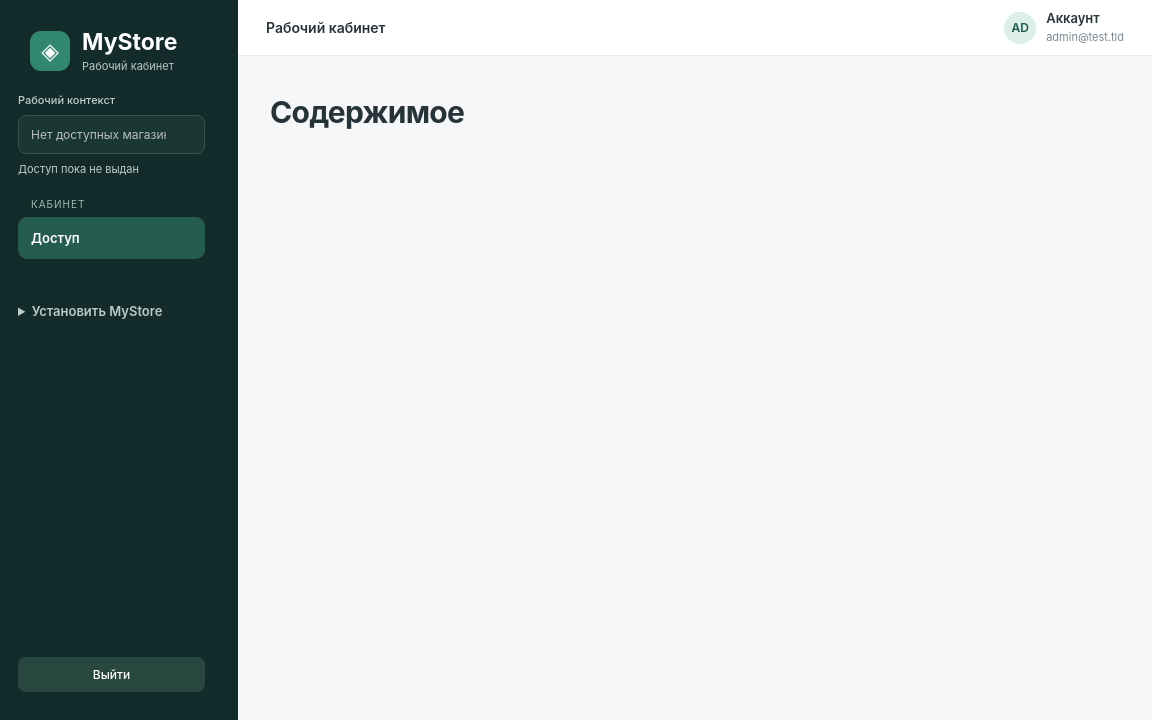
Test case: handles empty membership, long names as text, and logout errors
Expected: the dropdown labelled "Рабочий контекст" is shown, [18,115,205,154]
Click the button "Выйти": [112, 674] box [18,657,205,692]
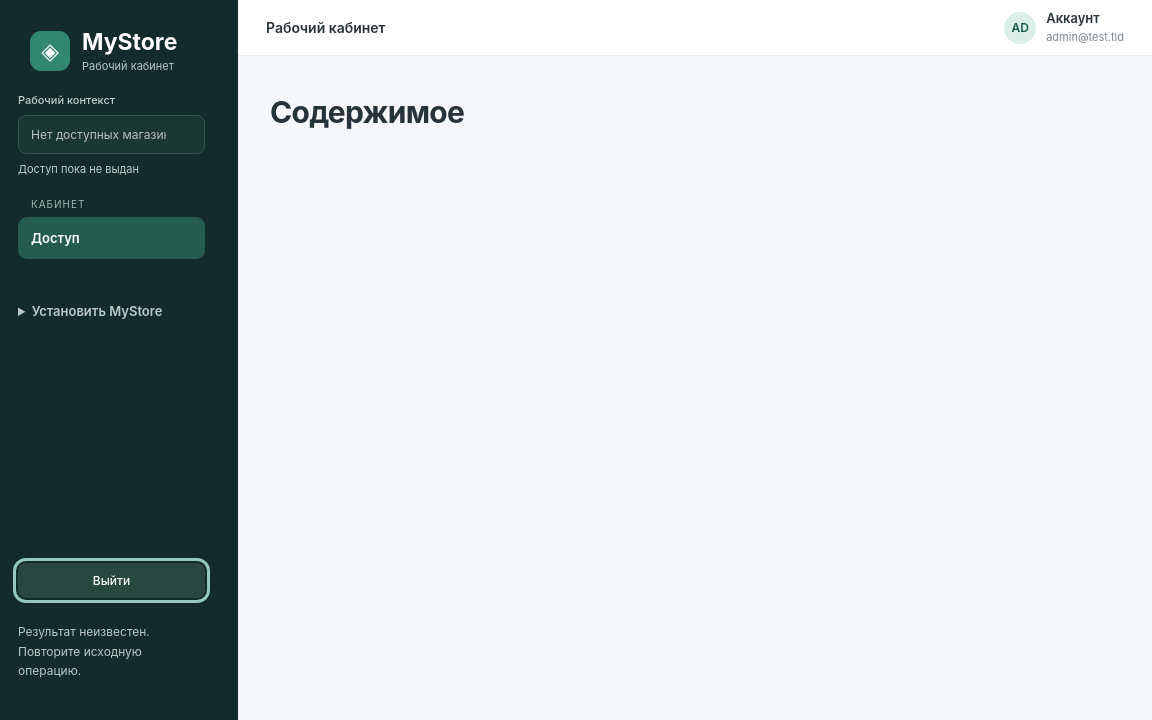
Expected: the dropdown labelled "Рабочий контекст" is disabled, [18,115,205,154]
Expected: the message "Результат неизвестен. Повторите исходную операцию." is shown, [18,624,150,678]
